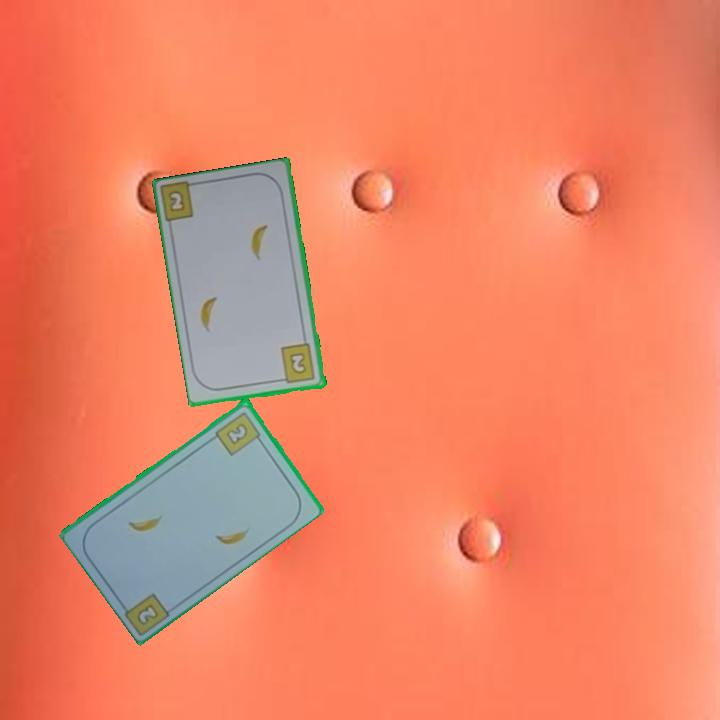2b: (212, 408, 265, 458), (276, 341, 318, 386), (135, 602, 159, 626), (167, 189, 186, 212)
